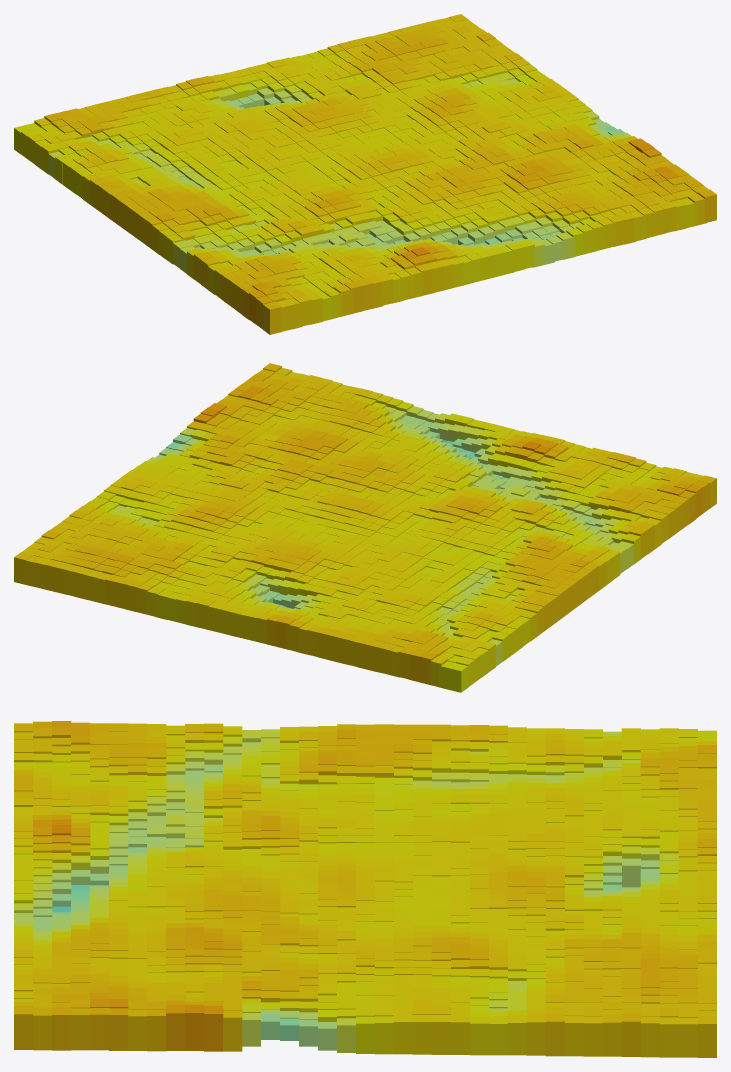
Rendered from population.glb.
3 renders of one model, top to bottom at view 1: azimuth 30°, elevation 25°; view 2: azimuth 150°, elevation 25°; view 3: azimuth 270°, elevation 25°, orthographic. The views are drawn at different scales.
Parts seen in each view (by area): view 1: population; view 2: population; view 3: population.
Boxes of the visible parts, left/top/right/bottom form: population: left=14, top=14, right=716, bottom=334; population: left=14, top=363, right=716, bottom=692; population: left=14, top=721, right=716, bottom=1057.
Size of the model in its own units: 3683 by 271 by 3650.
